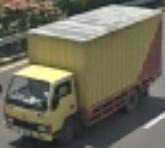truck: (3, 65, 84, 145)
